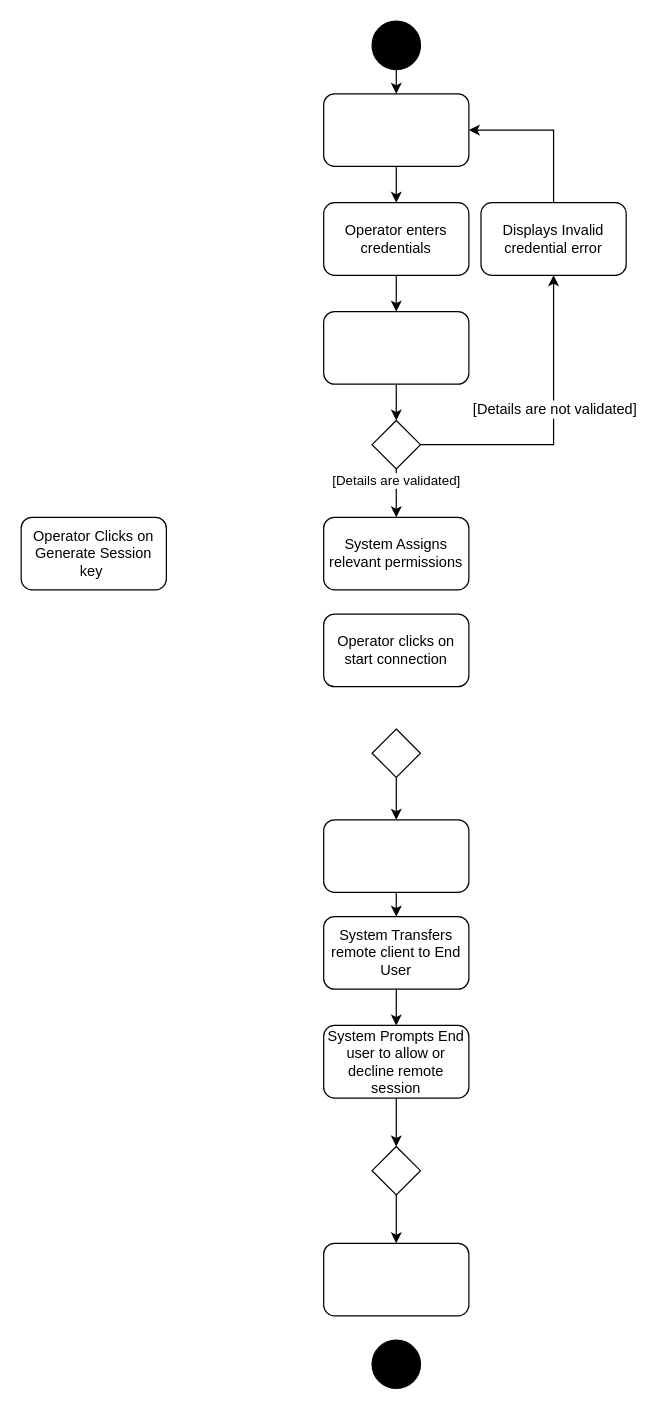
The diagram is 657 pixels wide and 1410 high, and some of its shapes have lost their labels. Here are the shapes that lost their labels. From the top down, the box of each, then its label:
(322, 93, 469, 166): System prompts for username and password
(322, 310, 469, 384): Credentials validated with domain controller
(322, 819, 469, 892): Types in Hostname of End Users Computer
(322, 1242, 469, 1316): Connection made using Framebuffer Protocol
